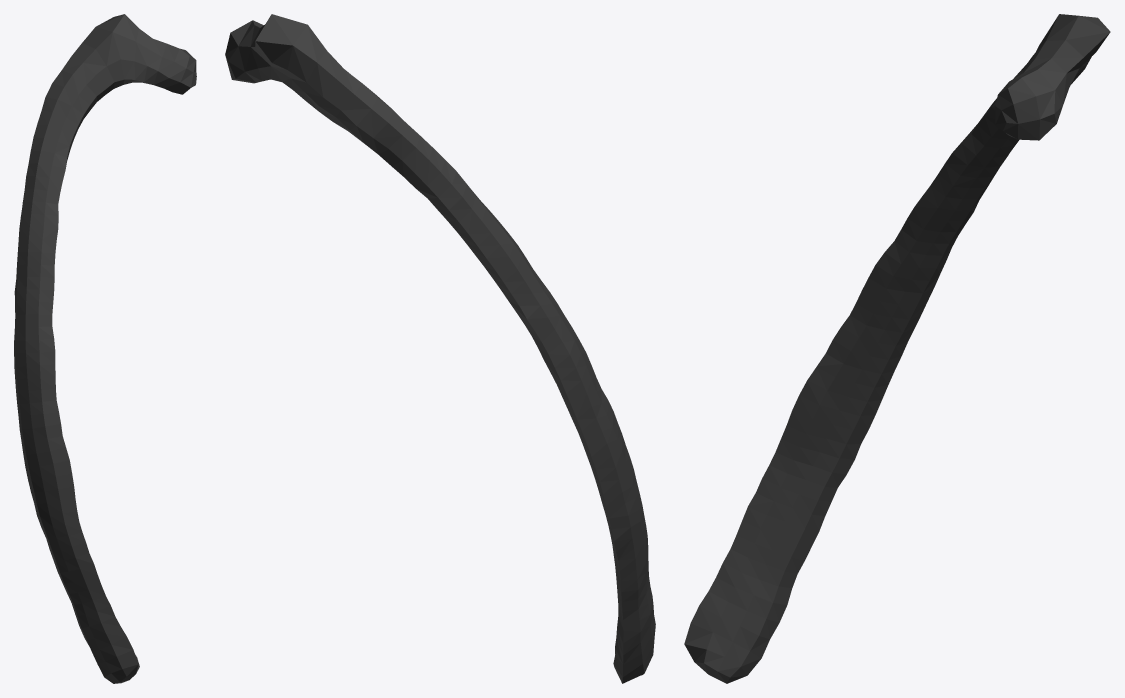
File: Rib_3_R.glb
The picture shows the model from 3 angles, left to right: view 1: azimuth 30°, elevation 25°; view 2: azimuth 150°, elevation 25°; view 3: azimuth 270°, elevation 25°; orthographic projection. The views are drawn at different scales.
Visible parts, largest first — view 1: Rib_3_R; view 2: Rib_3_R; view 3: Rib_3_R.
Part boxes in pixels (box(x1,y1,x2,y2)): Rib_3_R: box(14, 14, 196, 683); Rib_3_R: box(225, 14, 655, 683); Rib_3_R: box(684, 14, 1110, 683).
Size of the model in its own units: 2.66 by 6.18 by 3.16.
Materials: 1 (1 with a texture image).
